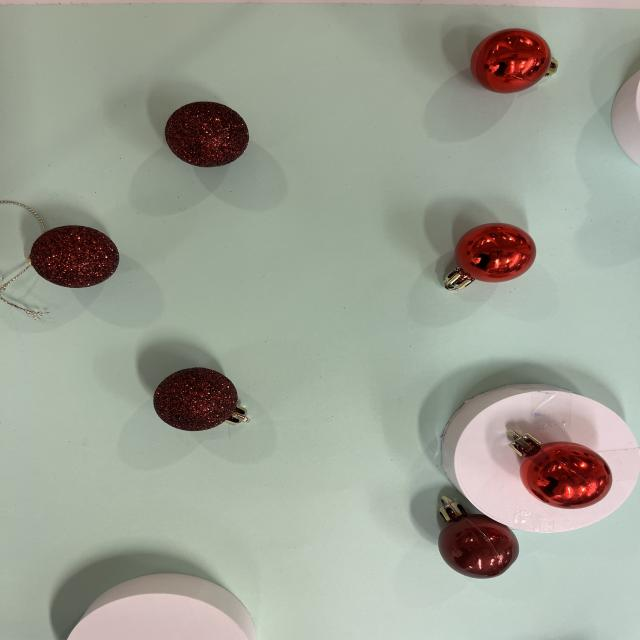glitter-bauble: (146, 364, 262, 437), (155, 96, 261, 170), (24, 222, 126, 295), (153, 367, 251, 432), (27, 225, 120, 289), (165, 102, 250, 168)
glossy-bauble: (493, 421, 617, 511), (420, 219, 543, 297), (506, 430, 613, 510), (460, 21, 563, 99), (444, 223, 537, 291), (470, 28, 558, 95)
wine-red-bauble: (418, 491, 526, 584), (438, 496, 519, 579)
